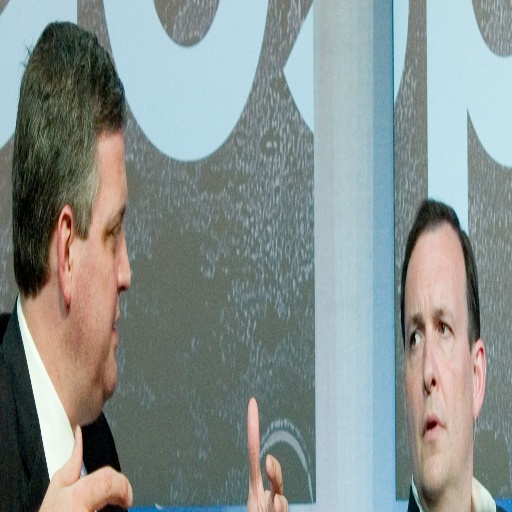hand: (37, 423, 133, 510), (238, 383, 284, 512)
